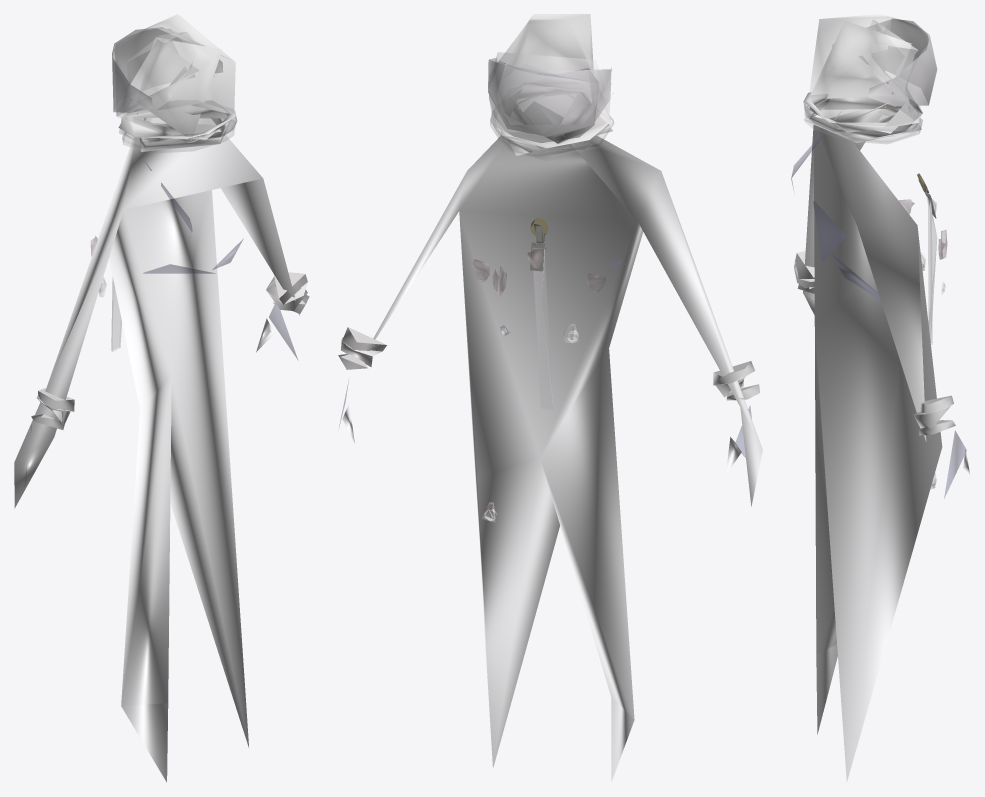
File: mercury-suit.glb
3 views of the same model, side by side, from view 1: azimuth 30°, elevation 25°; view 2: azimuth 150°, elevation 25°; view 3: azimuth 270°, elevation 25° (orthographic). The views are drawn at different scales.
Parts seen in each view (by area): view 1: Mercury Spacesuit; view 2: Mercury Spacesuit; view 3: Mercury Spacesuit.
Boxes of the visible parts, x1,y1,x2,y2 form: Mercury Spacesuit: (14, 14, 309, 782); Mercury Spacesuit: (338, 14, 762, 781); Mercury Spacesuit: (791, 14, 970, 782).
Size of the model in its own units: 0.9744 by 1.97 by 0.4326.
5 materials, 5 textured.
